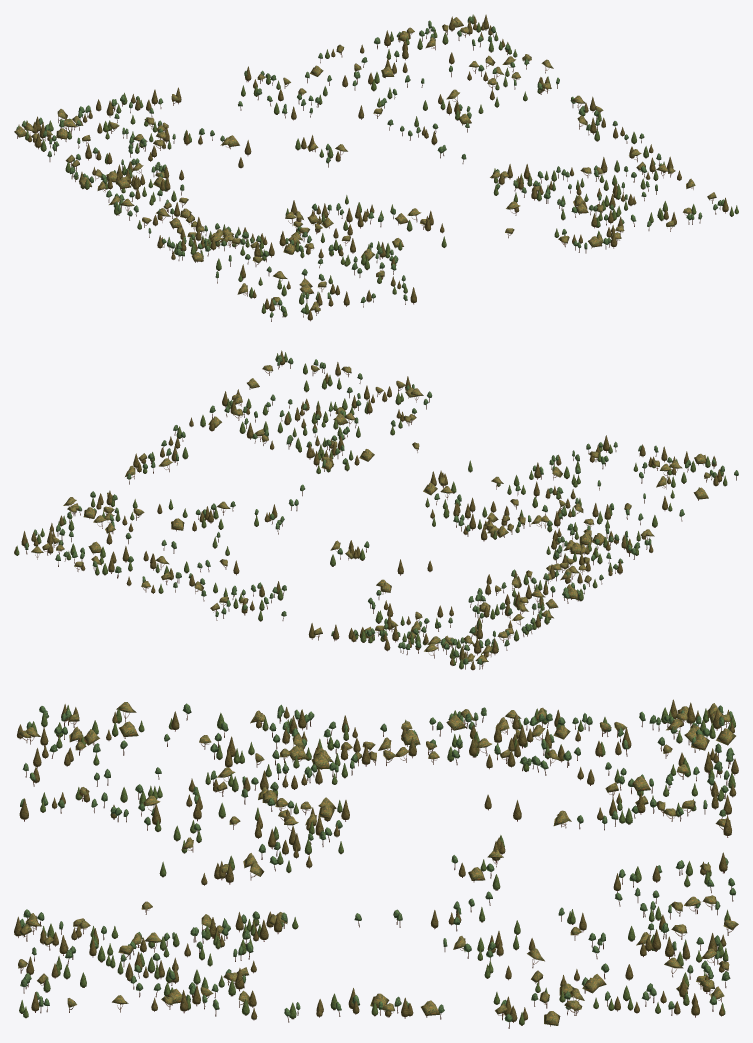
File: woodstest.fbx
3 renders of one model, top to bottom at view 1: azimuth 30°, elevation 25°; view 2: azimuth 150°, elevation 25°; view 3: azimuth 270°, elevation 25°, orthographic. The views are drawn at different scales.
Visible parts, largest first — view 1: TreeB6.201; view 2: TreeB6.201; view 3: TreeB6.201.
Part boxes in pixels (box(x1,y1,x2,y2)): TreeB6.201: box(14, 14, 738, 321); TreeB6.201: box(14, 350, 738, 670); TreeB6.201: box(14, 699, 738, 1028).
Size of the model in its own units: 106968 by 8002 by 104419.
